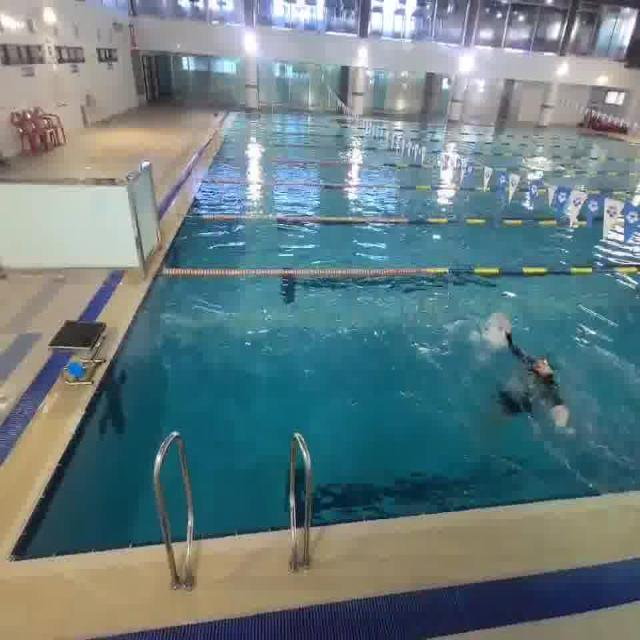Drowning: (484, 318, 588, 446)
